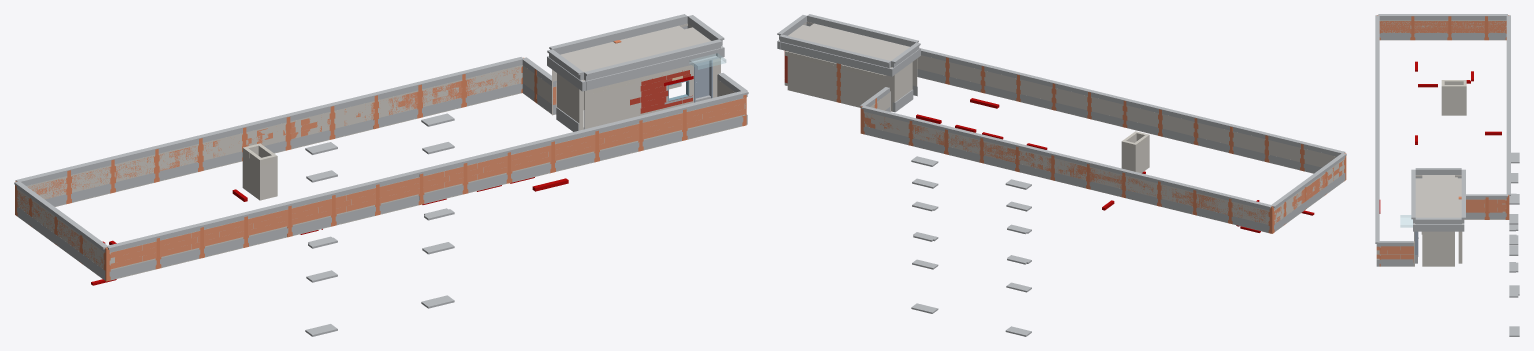
3 renders of one model, left to right at view 1: azimuth 30°, elevation 25°; view 2: azimuth 150°, elevation 25°; view 3: azimuth 270°, elevation 25°, orthographic. The views are drawn at different scales.
Visible parts, largest first — view 1: C_L.003, C_Q.003, C_QC__T200.003, C_GZ.003, C_B.003, C_QC__T250.003, C_QC_F1.003, C_GL.003, C_M.003; view 2: C_L.003, C_Q.003, C_QC__T200.003, C_GZ.003, C_B.003, C_QC_F1.003, C_GL.003; view 3: C_L.003, C_Q.003, C_QC__T200.003, C_B.003, C_GZ.003, C_GL.003, C_G.001, C_QC_F1.003.
Boxes of the visible parts, x1=… form: C_L.003: x1=14, y1=14, x2=748, y2=336; C_Q.003: x1=17, y1=58, x2=745, y2=280; C_QC__T200.003: x1=17, y1=67, x2=746, y2=269; C_GZ.003: x1=15, y1=40, x2=746, y2=281; C_B.003: x1=560, y1=23, x2=721, y2=81; C_QC__T250.003: x1=630, y1=70, x2=692, y2=113; C_QC_F1.003: x1=243, y1=65, x2=692, y2=164; C_GL.003: x1=91, y1=76, x2=693, y2=285; C_M.003: x1=694, y1=60, x2=712, y2=102; C_L.003: x1=777, y1=14, x2=1346, y2=336; C_Q.003: x1=785, y1=51, x2=1344, y2=232; C_QC__T200.003: x1=863, y1=115, x2=1343, y2=223; C_GZ.003: x1=836, y1=57, x2=1346, y2=233; C_B.003: x1=788, y1=21, x2=909, y2=68; C_QC_F1.003: x1=785, y1=51, x2=1231, y2=201; C_GL.003: x1=916, y1=98, x2=1314, y2=232; C_L.003: x1=1375, y1=14, x2=1519, y2=336; C_Q.003: x1=1376, y1=20, x2=1506, y2=266; C_QC__T200.003: x1=1376, y1=21, x2=1506, y2=262; C_B.003: x1=1414, y1=175, x2=1462, y2=224; C_GZ.003: x1=1377, y1=15, x2=1509, y2=266; C_GL.003: x1=1379, y1=61, x2=1501, y2=213; C_G.001: x1=1400, y1=215, x2=1412, y2=227; C_QC_F1.003: x1=1421, y1=80, x2=1466, y2=234.
Bounding box in the file's own units: 36.85 × 14.23 × 9.8.
